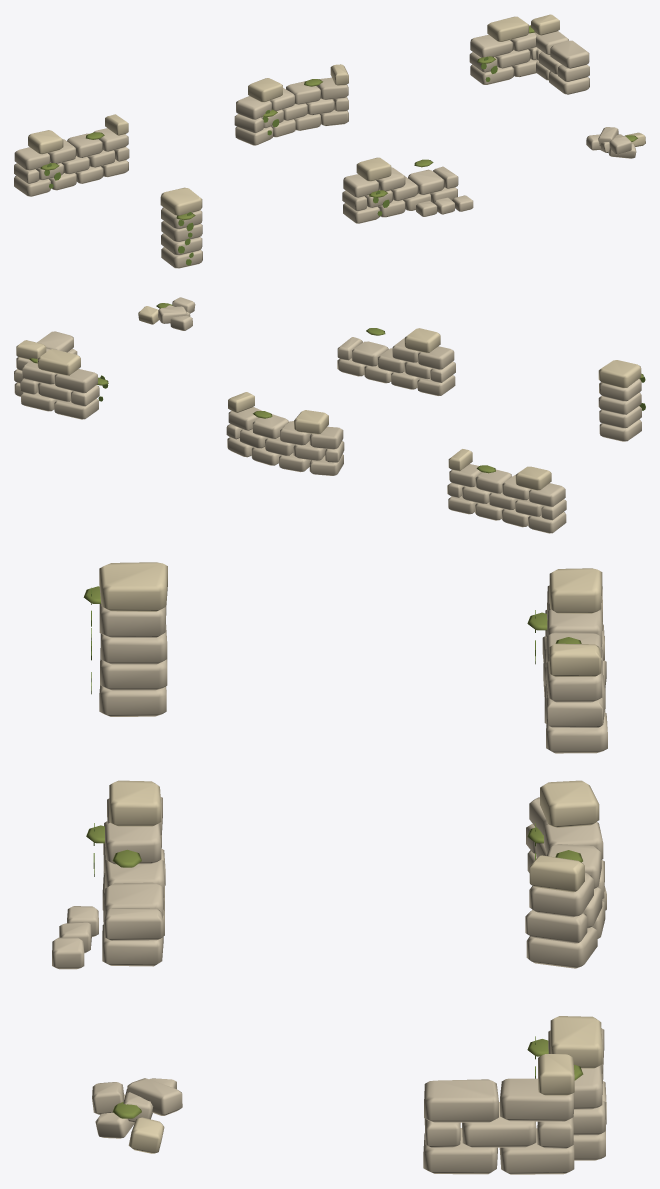
Rendered from ruined-wall-modular-kit.glb.
3 renders of one model, top to bottom at view 1: azimuth 30°, elevation 25°; view 2: azimuth 150°, elevation 25°; view 3: azimuth 270°, elevation 25°, orthographic. The views are drawn at different scales.
Visible parts, largest first — view 1: island-sandstone (×6), island-capstone (×5); view 2: island-sandstone (×6), island-capstone (×5); view 3: island-sandstone (×6), island-capstone (×6).
Boxes of the visible parts, box(x1,y1,x2,y2) form: island-sandstone (×6): box(14, 25, 636, 268); island-capstone (×5): box(28, 14, 559, 215); island-sandstone (×6): box(14, 297, 641, 533); island-capstone (×5): box(16, 328, 641, 490); island-sandstone (×6): box(52, 585, 607, 1174); island-capstone (×6): box(99, 562, 602, 1153).
Size of the model in its own units: 19.6 by 2.31 by 8.82.
